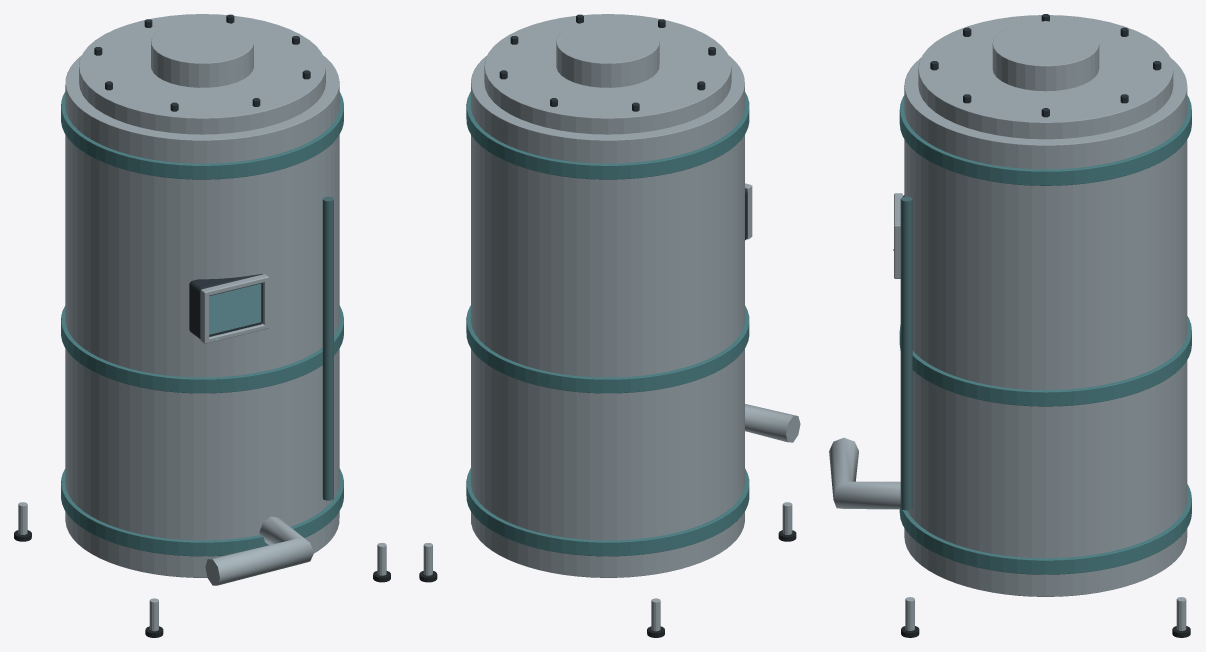
The model's file is RD_ExpansionVessel.fbx.
3 views of the same model, side by side, from view 1: azimuth 30°, elevation 25°; view 2: azimuth 150°, elevation 25°; view 3: azimuth 270°, elevation 25° (orthographic). The views are drawn at different scales.
Visible parts, largest first — view 1: RD_ExpansionVessel; view 2: RD_ExpansionVessel; view 3: RD_ExpansionVessel.
Boxes of the visible parts, left/top/right/bottom form: RD_ExpansionVessel: left=14, top=14, right=390, bottom=637; RD_ExpansionVessel: left=419, top=14, right=800, bottom=637; RD_ExpansionVessel: left=829, top=14, right=1191, bottom=637.
Size of the model in its own units: 126 by 254 by 156.
